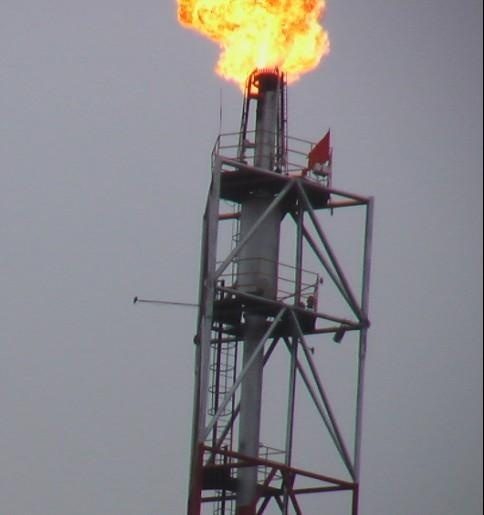fire: (161, 0, 334, 93)
